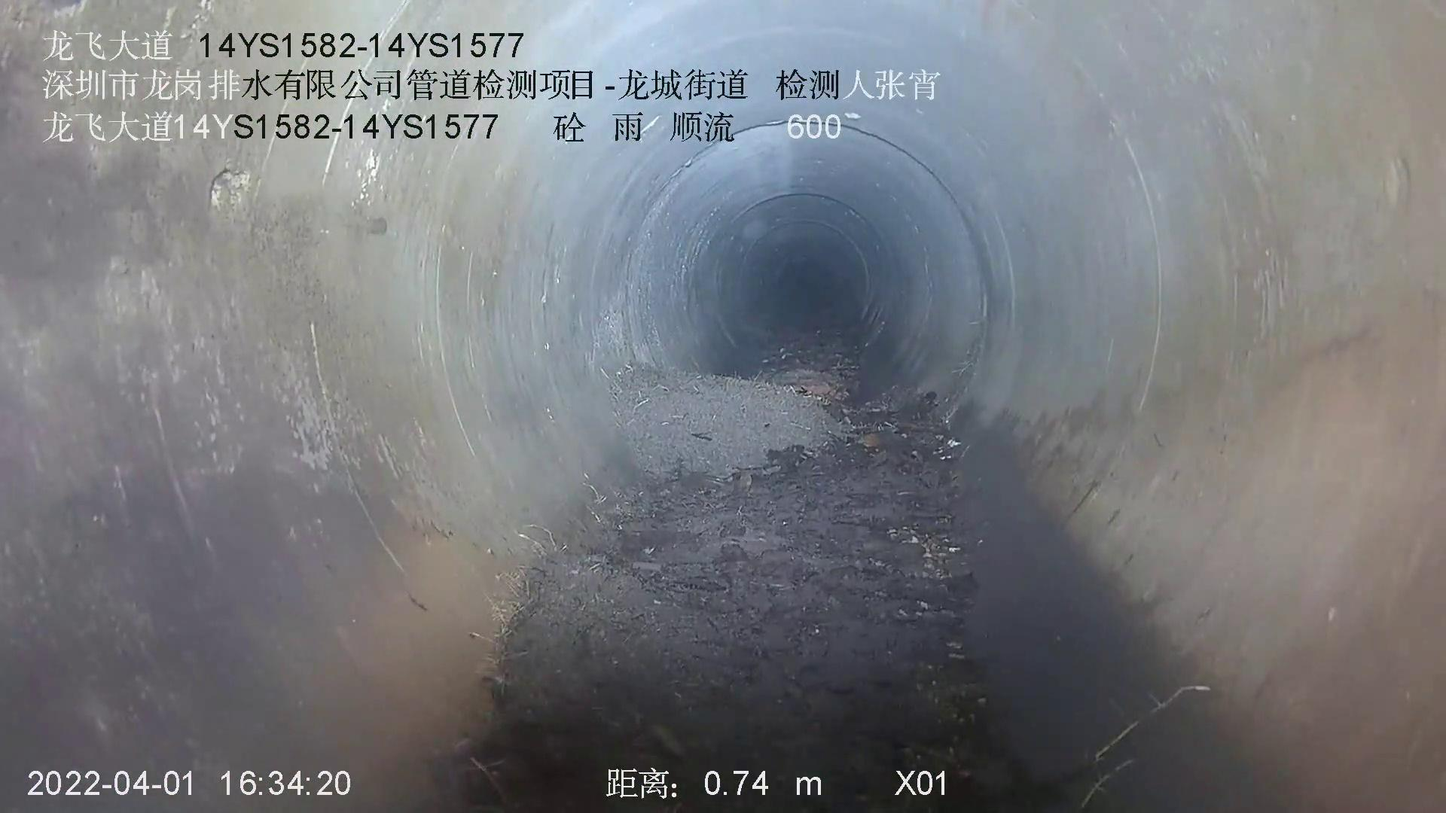CJ: (468, 324, 1010, 812)
